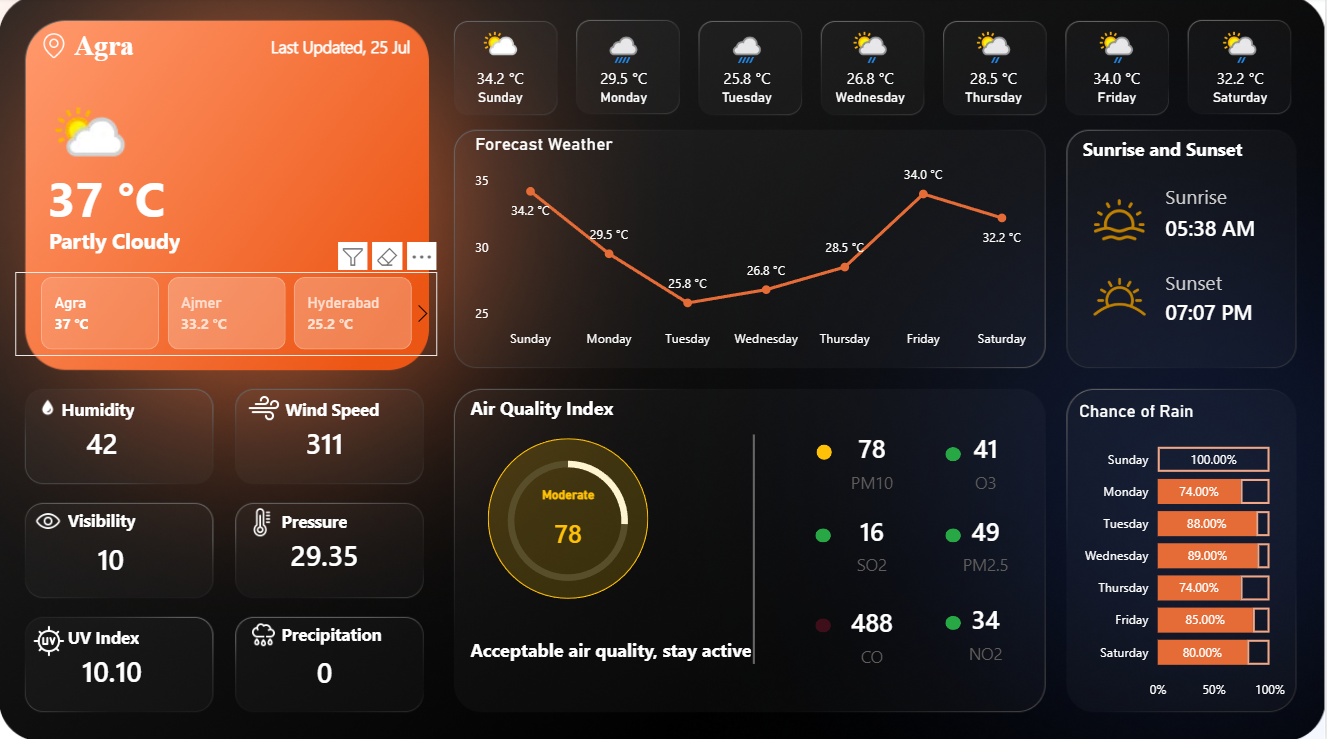

The dashboard page shown, as its layout file describes it:
{"tool":"powerbi","page":{"name":"Page 1","canvas":[1280,720],"ordinal":0},"visuals":[{"type":"donutChart","fields":{"Y":["Sum(Current.current.air_quality.pm10)","_Measure.Left_value_PM10"]},"box":[471.9,428.9,155,155],"z":0},{"type":"shape","box":[471.9,426.3,155,155],"z":1000},{"type":"advancedSlicerVisual","fields":{"Values":["Location.location.name"]},"box":[15.1,265.9,408.3,80.6],"z":2000},{"type":"shape","box":[46.6,150,194.1,88.2],"z":3000},{"type":"shape","box":[47.9,216.7,175.2,34],"z":4000},{"type":"shape","box":[72.4,30.2,156.8,33.8],"z":5000},{"type":"shape","box":[170.1,30.2,226.8,33.8],"z":6000},{"type":"image","box":[33.8,30.2,38.6,33.8],"z":7000},{"type":"cardVisual","fields":{"Data":["Min(Current.current.condition.icon)"]},"box":[27.7,78.1,108.4,94.5],"z":8000},{"type":"image","box":[33.8,383.6,26.5,25.3],"z":9000},{"type":"shape","box":[60.3,380,121.9,33.8],"z":10000},{"type":"image","box":[29,487.4,37.4,37.4],"z":11000},{"type":"image","box":[27.7,597.2,41,49.5],"z":12000},{"type":"image","box":[235.3,376.4,41,41],"z":13000},{"type":"image","box":[235.3,488.6,37.4,37.4],"z":14000},{"type":"image","box":[232.8,597.2,44.6,37.4],"z":15000},{"type":"shape","box":[66.4,487.4,115.8,33.8],"z":16000},{"type":"shape","box":[66.4,600.8,129.1,33.8],"z":17000},{"type":"shape","box":[276.3,380,108.6,33.8],"z":18000},{"type":"shape","box":[272.7,488.6,108.6,33.8],"z":19000},{"type":"shape","box":[272.7,597.2,108.6,33.8],"z":20000},{"type":"card","fields":{"Values":["Sum(Current.current.humidity)"]},"box":[57.9,395.7,83.2,72.4],"z":21000},{"type":"card","fields":{"Values":["Sum(Current.current.wind_degree)"]},"box":[272.7,395.7,83.2,72.4],"z":22000},{"type":"card","fields":{"Values":["Sum(Current.current.pressure_in)"]},"box":[272.2,504,83.2,71.8],"z":23000},{"type":"card","fields":{"Values":["Sum(Current.current.precip_in)"]},"box":[272.2,613.7,83.2,78.1],"z":24000},{"type":"card","fields":{"Values":["Sum(Current.current.vis_km)"]},"box":[66.8,507.8,83.2,71.8],"z":25000},{"type":"card","fields":{"Values":["Sum(Current.current.uv)"]},"box":[68,616.2,83.2,71.8],"z":26000},{"type":"advancedSlicerVisual","fields":{"Values":["Forecast_Day.Day_Name"]},"box":[423.1,21.9,836.4,91.4],"z":27000},{"type":"lineChart","title":"Forecast Weather","fields":{"Y":["Sum(Forecast_Day.forecast.forecastday.day.avgtemp_c)"],"Category":["Forecast_Day.Day_Name"]},"box":[454.8,131.7,548.7,217],"z":28000},{"type":"shape","box":[1046.1,129.2,174.4,34.1],"z":29000},{"type":"shape","box":[1125.4,200,154.8,43.9],"z":30000},{"type":"shape","box":[1125.4,251.2,154.8,48.8],"z":31000},{"type":"shape","box":[1125.4,170.7,154.8,43.9],"z":32000},{"type":"shape","box":[1125.4,279.2,154.8,48.8],"z":33000},{"type":"image","box":[1052.2,185.3,58.5,58.5],"z":34000},{"type":"image","box":[1037.6,251.2,87.8,76.8],"z":35000},{"type":"hundredPercentStackedBarChart","title":"Chance of Rain","fields":{"Y":["Sum(Forecast_Day.forecast.forecastday.day.daily_chance_of_rain)","_Measure.Left_value_rain"],"Category":["Forecast_Day.Day_Name"]},"box":[1037.5,390.1,208.9,297.1],"z":36000},{"type":"shape","box":[455.3,379.2,175.1,35],"z":37000},{"type":"card","fields":{"Values":["Sum(Current.current.air_quality.pm10)"]},"box":[803.5,409.2,78.3,78.3],"z":38000},{"type":"card","fields":{"Values":["Sum(Current.current.air_quality.o3)"]},"box":[912.9,409.2,78.3,78.3],"z":39000},{"type":"card","fields":{"Values":["Sum(Current.current.air_quality.so2)"]},"box":[803.5,488.9,78.3,78.3],"z":40000},{"type":"card","fields":{"Values":["Sum(Current.current.air_quality.pm2_5)"]},"box":[912.9,488.9,78.3,78.3],"z":41000},{"type":"card","fields":{"Values":["Sum(Current.current.air_quality.co)"]},"box":[803.5,576.7,78.3,78.3],"z":42000},{"type":"card","fields":{"Values":["Sum(Current.current.air_quality.no2)"]},"box":[912.9,574,78.3,78.3],"z":43000},{"type":"shape","box":[788.7,432.2,14.9,14.9],"z":44000},{"type":"shape","box":[788.1,512.4,15.2,13.9],"z":45000},{"type":"shape","box":[788.1,599.6,15.2,13.9],"z":46000},{"type":"shape","box":[913.4,433.9,15.2,13.9],"z":47000},{"type":"shape","box":[913.4,512.4,15.2,13.9],"z":48000},{"type":"shape","box":[913.4,597.1,15.2,13.9],"z":49000},{"type":"shape","box":[705.9,422.5,45.5,221.4],"z":50000},{"type":"card","fields":{"Values":["Sum(Current.current.air_quality.pm10)"]},"box":[509.8,473.1,78.4,78.4],"z":51000},{"type":"shape","box":[455.1,597,275.5,65.5],"z":51001}]}

Visuals, with their boxes in screenshot pixels (x1, y1, x2, y2), scaled from the page's 1280x720 canvas onto the 1327x739 screenshot:
donutChart - Sum(Current.current.air_quality.pm10) x _Measure.Left_value_PM10: 489:440:650:599
shape: 489:438:650:597
advancedSlicerVisual - Location.location.name: 16:273:439:356
shape: 48:154:250:244
shape: 50:222:231:257
shape: 75:31:238:66
shape: 176:31:411:66
image: 35:31:75:66
cardVisual - Min(Current.current.condition.icon): 29:80:141:177
image: 35:394:63:420
shape: 63:390:189:425
image: 30:500:69:539
image: 29:613:71:664
image: 244:386:286:428
image: 244:501:283:540
image: 241:613:288:651
shape: 69:500:189:535
shape: 69:617:203:651
shape: 286:390:399:425
shape: 283:501:395:536
shape: 283:613:395:648
card - Sum(Current.current.humidity): 60:406:146:480
card - Sum(Current.current.wind_degree): 283:406:369:480
card - Sum(Current.current.pressure_in): 282:517:368:591
card - Sum(Current.current.precip_in): 282:630:368:710
card - Sum(Current.current.vis_km): 69:521:156:595
card - Sum(Current.current.uv): 70:632:157:706
advancedSlicerVisual - Forecast_Day.Day_Name: 439:22:1306:116
"Forecast Weather" lineChart: 471:135:1040:358
shape: 1085:133:1265:168
shape: 1167:205:1326:250
shape: 1167:258:1326:308
shape: 1167:175:1326:220
shape: 1167:287:1326:337
image: 1091:190:1151:250
image: 1076:258:1167:337
"Chance of Rain" hundredPercentStackedBarChart: 1076:400:1292:705
shape: 472:389:654:425
card - Sum(Current.current.air_quality.pm10): 833:420:914:500
card - Sum(Current.current.air_quality.o3): 946:420:1028:500
card - Sum(Current.current.air_quality.so2): 833:502:914:582
card - Sum(Current.current.air_quality.pm2_5): 946:502:1028:582
card - Sum(Current.current.air_quality.co): 833:592:914:672
card - Sum(Current.current.air_quality.no2): 946:589:1028:670
shape: 818:444:833:459
shape: 817:526:833:540
shape: 817:615:833:630
shape: 947:445:963:460
shape: 947:526:963:540
shape: 947:613:963:627
shape: 732:434:779:661
card - Sum(Current.current.air_quality.pm10): 529:486:610:566
shape: 472:613:757:680
